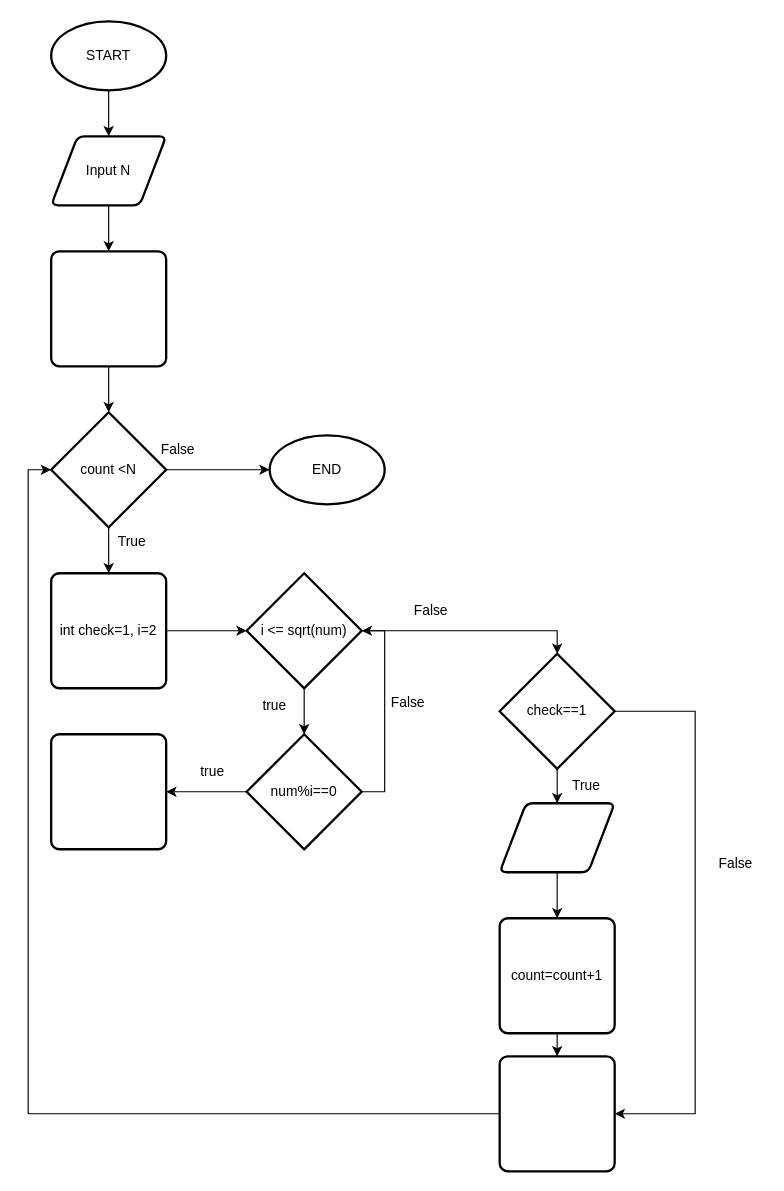
Image size: 784x1191. Some labels were removed from this diagram. The centre of each missing label's shape, as x and y in pixels:
check=0: (x=108, y=791)
int count =0, num=2: (x=108, y=308)
num=num+1: (x=556, y=1113)
print num: (x=556, y=837)
